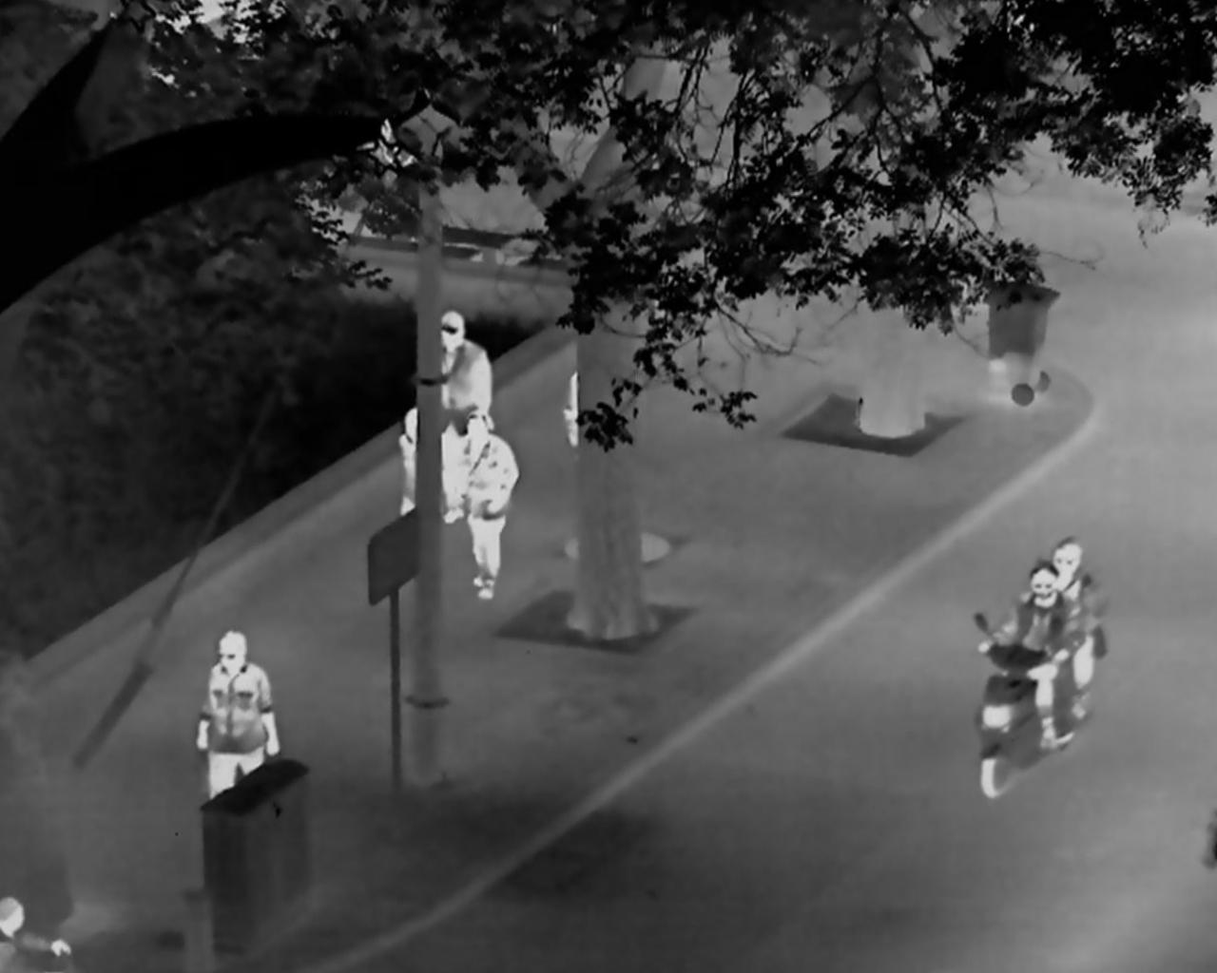person: (976, 558, 1075, 750), (193, 628, 280, 801), (436, 304, 495, 524), (454, 409, 521, 599), (1052, 535, 1103, 719), (397, 406, 420, 520), (563, 368, 579, 449)
